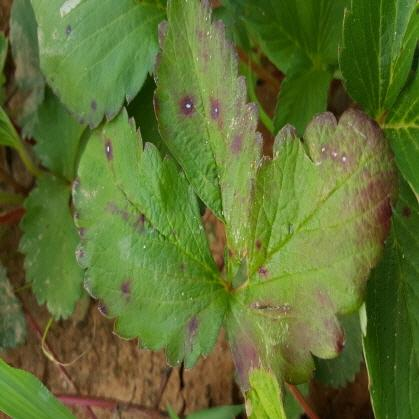Leaf Spot: (221, 107, 397, 404), (71, 105, 231, 372), (151, 0, 263, 283), (30, 0, 168, 131), (358, 166, 418, 418)
